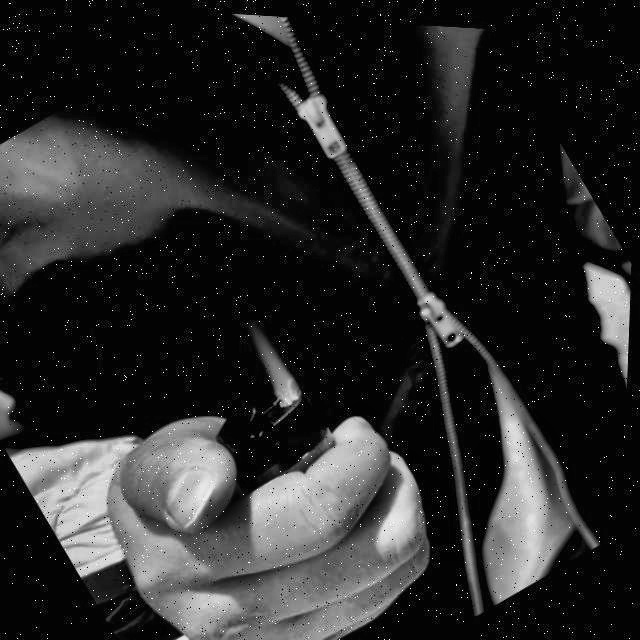Fire: (231, 309, 306, 401)
